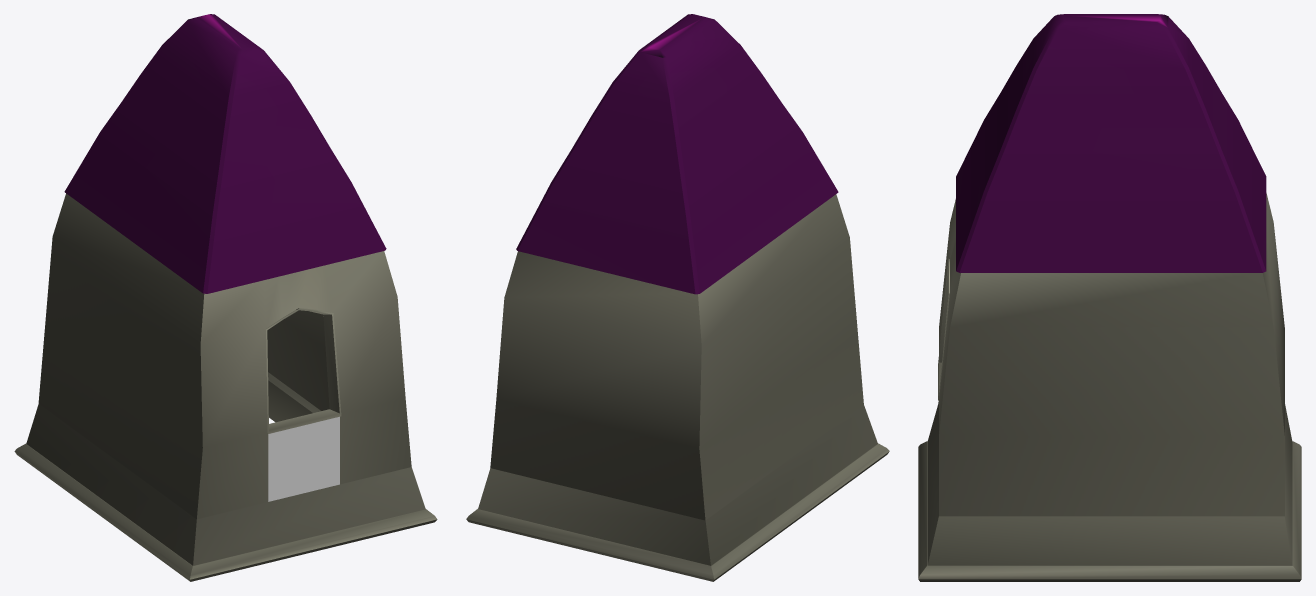
Rendered from tomb tall.fbx.
The picture shows the model from 3 angles, left to right: view 1: azimuth 30°, elevation 25°; view 2: azimuth 150°, elevation 25°; view 3: azimuth 270°, elevation 25°; orthographic projection. The views are drawn at different scales.
Parts seen in each view (by area): view 1: carcass.001, roof.001, base.001, window.001; view 2: carcass.001, roof.001, base.001; view 3: carcass.001, roof.001, base.001, window.001.
Part boxes in pixels (x1,y1,x2,y2): carcass.001: [38, 193, 411, 519]; roof.001: [64, 14, 386, 293]; base.001: [14, 372, 437, 581]; window.001: [266, 308, 341, 433]; carcass.001: [490, 194, 863, 520]; roof.001: [516, 14, 838, 294]; base.001: [466, 405, 889, 581]; carcass.001: [939, 193, 1284, 516]; roof.001: [956, 14, 1266, 272]; base.001: [918, 402, 1301, 581]; window.001: [938, 258, 949, 402].
Bounding box in the file's own units: 639 × 1124 × 784.
